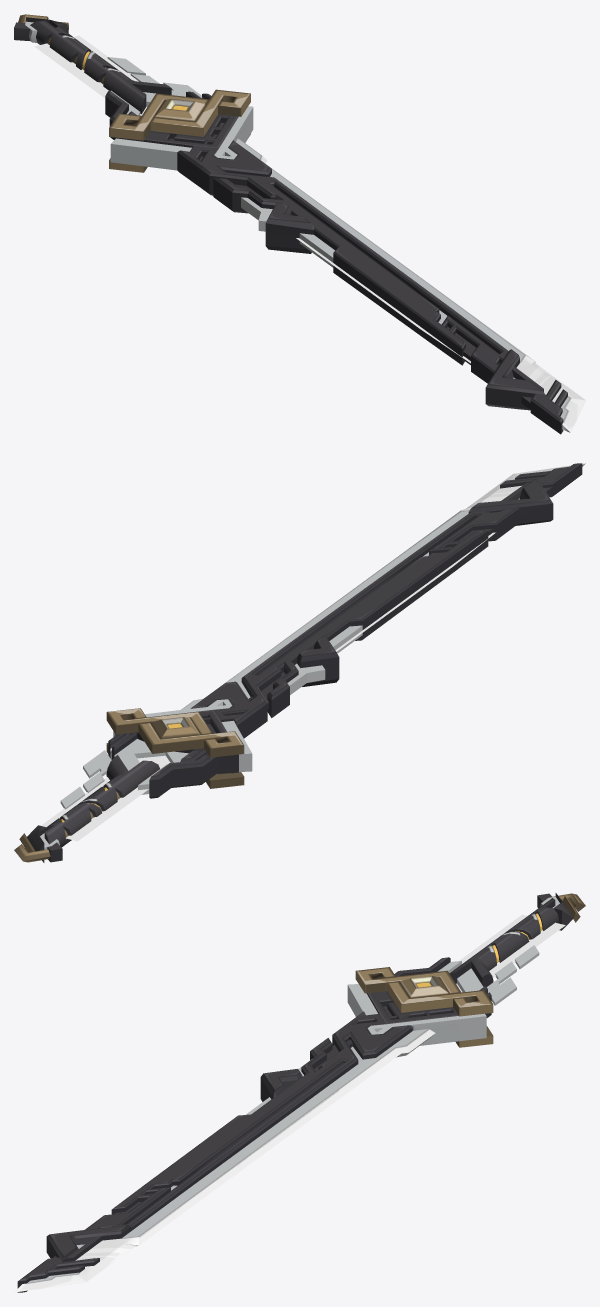
File: Equip_Sword_Kunwu_Model.fbx
3 views of the same model, one above another, from view 1: azimuth 30°, elevation 25°; view 2: azimuth 150°, elevation 25°; view 3: azimuth 330°, elevation 25° (orthographic). The views are drawn at different scales.
Parts seen in each view (by area): view 1: Equip_Sword_Kunwu_Model, Equip_Sword_EffectMesh; view 2: Equip_Sword_Kunwu_Model, Equip_Sword_EffectMesh; view 3: Equip_Sword_Kunwu_Model, Equip_Sword_EffectMesh.
Part boxes in pixels (x1=…): Equip_Sword_Kunwu_Model: x1=14, y1=14, x2=585, y2=434; Equip_Sword_EffectMesh: x1=34, y1=35, x2=576, y2=421; Equip_Sword_Kunwu_Model: x1=14, y1=463, x2=585, y2=862; Equip_Sword_EffectMesh: x1=41, y1=466, x2=560, y2=841; Equip_Sword_Kunwu_Model: x1=14, y1=893, x2=585, y2=1292; Equip_Sword_EffectMesh: x1=39, y1=914, x2=565, y2=1289.
Size of the model in its own units: 0.1632 by 0.0566 by 1.1.
